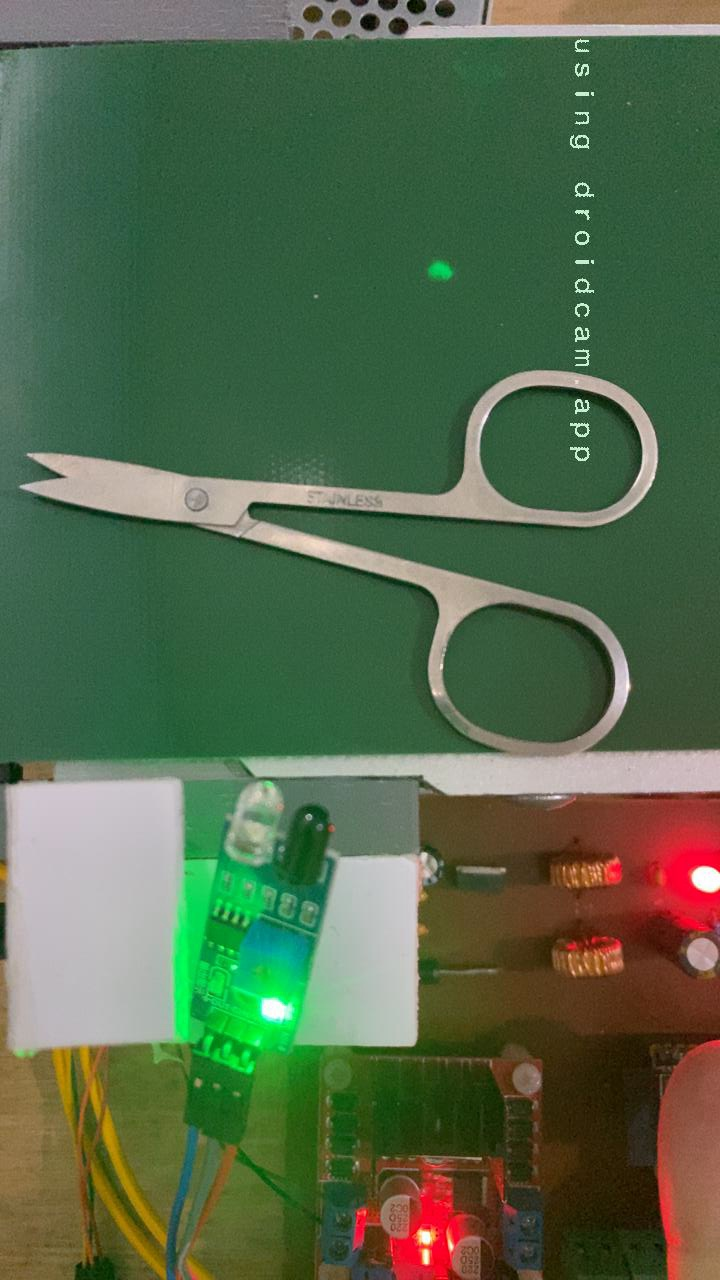scissor: (14, 364, 667, 757)
